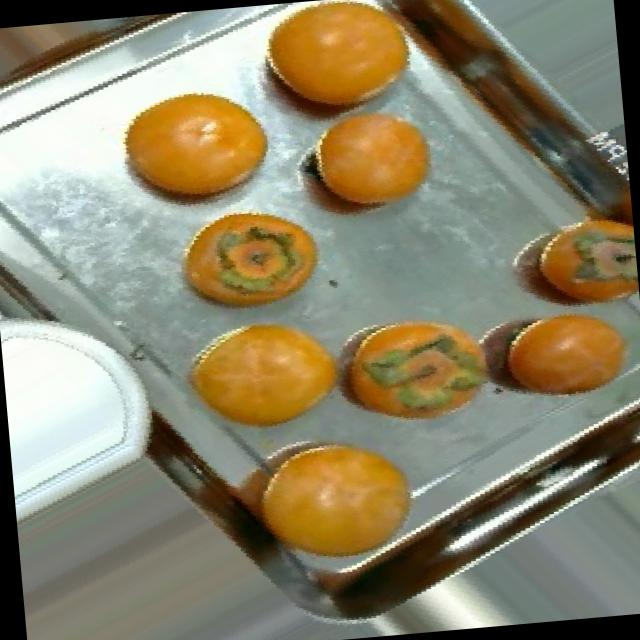Fruit: (205, 412, 446, 588), (82, 62, 296, 241), (157, 295, 366, 464), (299, 291, 512, 454), (225, 0, 448, 150), (286, 86, 458, 242), (156, 188, 342, 332), (475, 288, 640, 430), (489, 194, 640, 324)
